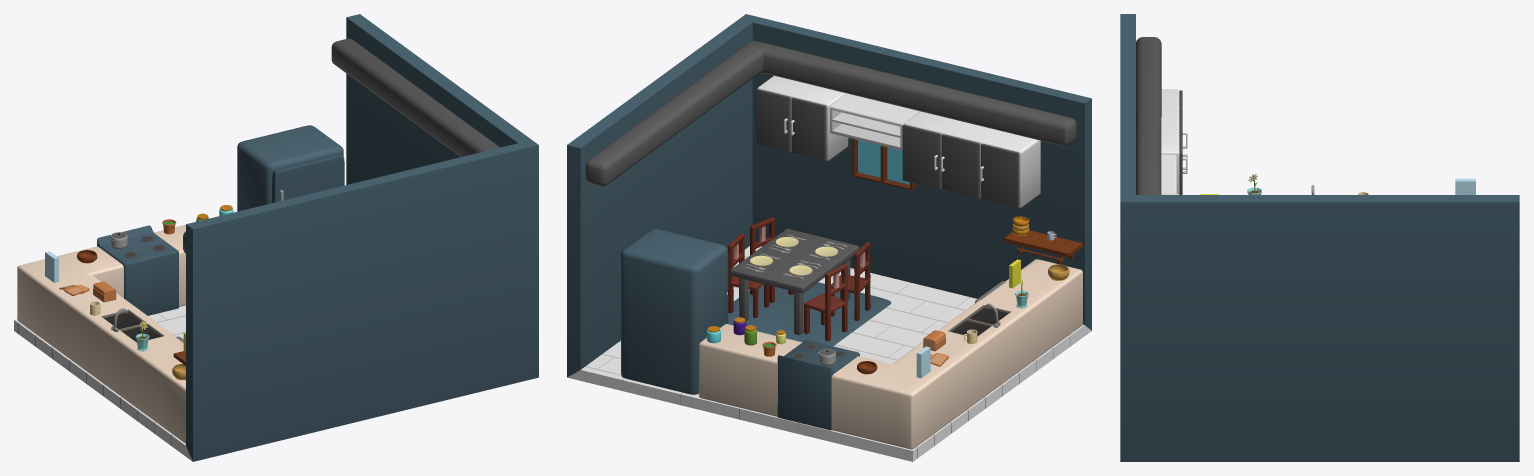
File: Kitchen.fbx
3 renders of one model, left to right at view 1: azimuth 30°, elevation 25°; view 2: azimuth 150°, elevation 25°; view 3: azimuth 270°, elevation 25°, orthographic. The views are drawn at different scales.
Visible parts, largest first — view 1: Kitchen, Desk, Ground; view 2: Kitchen, Desk, Ground, Shelf.001; view 3: Kitchen.
Part boxes in pixels (bbox=[...]): Kitchen: bbox=[183, 14, 538, 461]; Desk: bbox=[17, 225, 185, 443]; Ground: bbox=[14, 305, 192, 461]; Kitchen: bbox=[567, 14, 1091, 394]; Desk: bbox=[699, 259, 1082, 449]; Ground: bbox=[567, 246, 1091, 461]; Shelf.001: bbox=[1004, 230, 1082, 263]; Kitchen: bbox=[1120, 14, 1519, 461].
Size of the model in its own units: 5.21 by 3.34 by 4.67.
